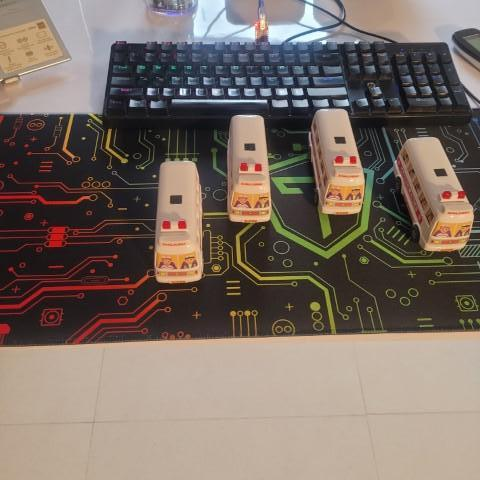ambulance: (391, 132, 475, 255), (149, 161, 209, 287), (306, 105, 368, 217), (223, 112, 275, 227)
